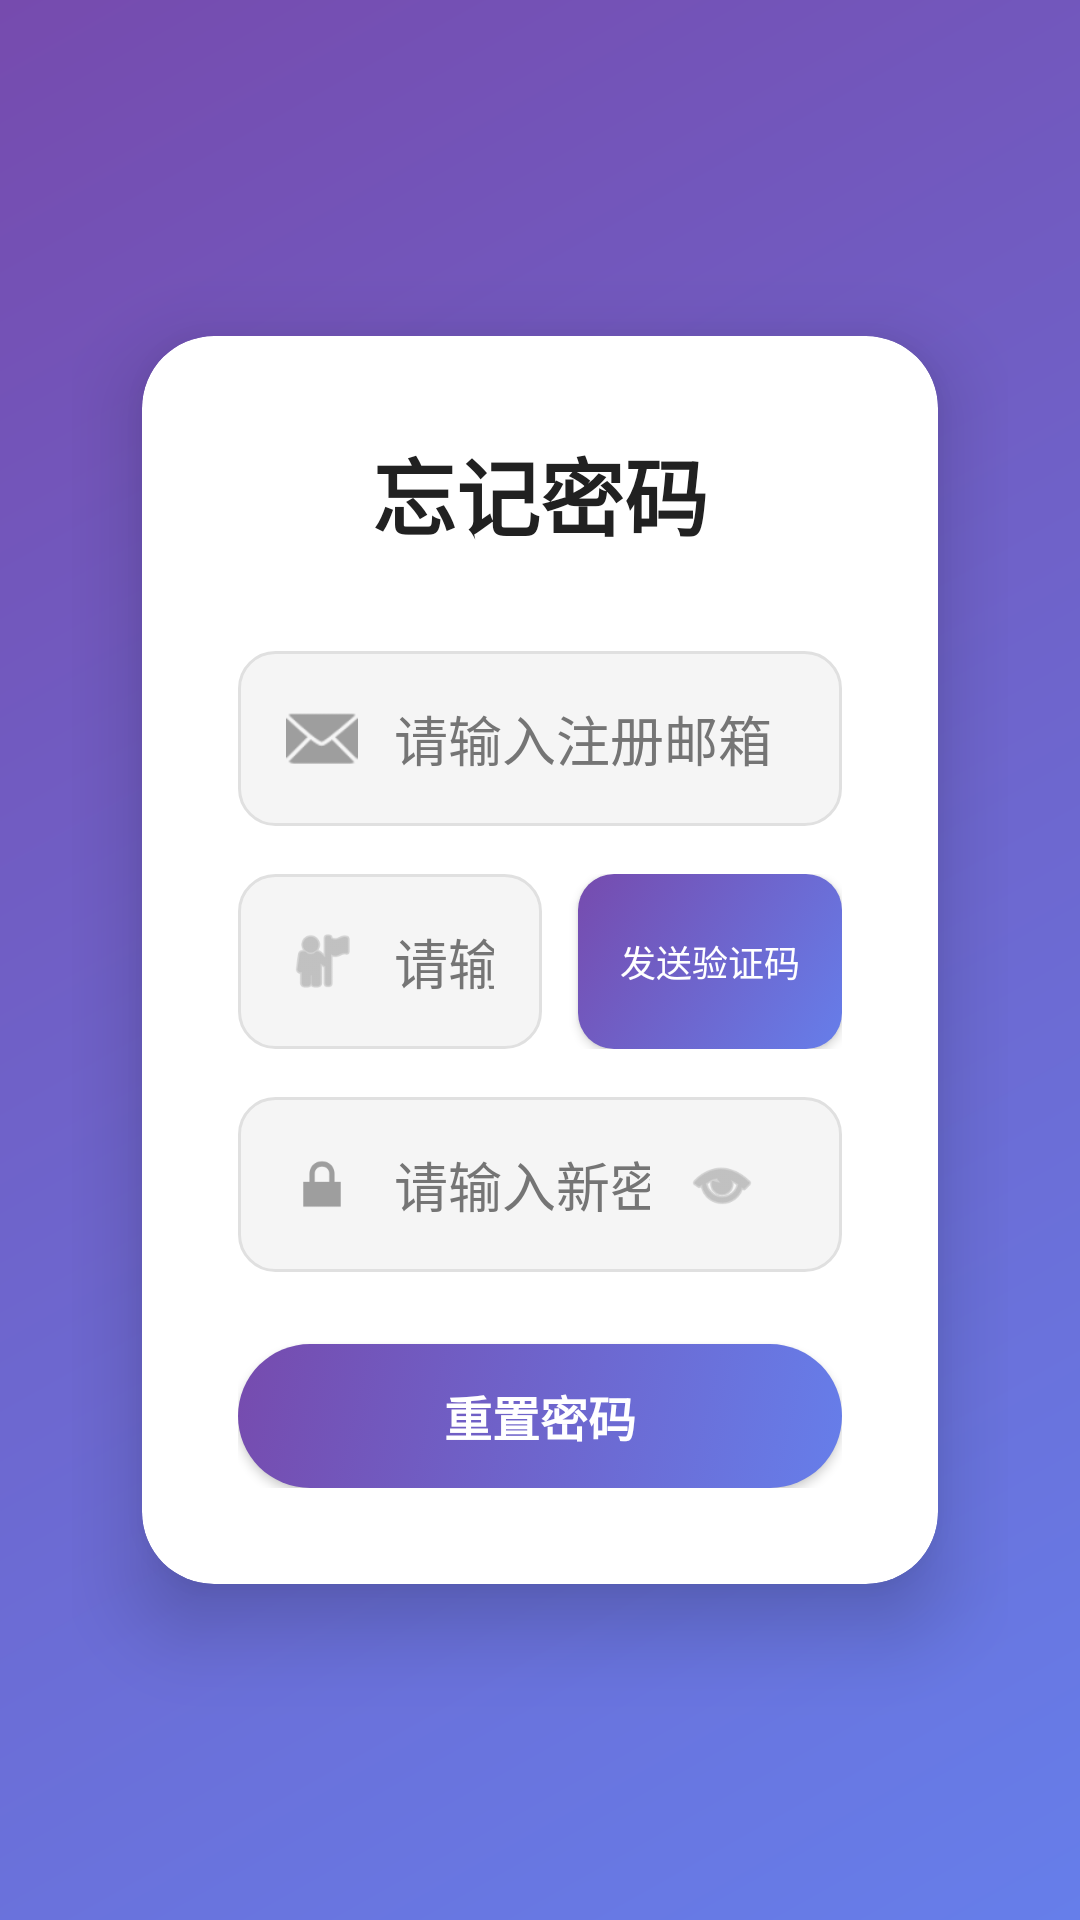

Named icons in this screenshot (1080px×1920px) and their bounding boxes, detection(x1, y1, x2, y2):
email: detection(286, 714, 358, 764)
lock: detection(303, 1161, 341, 1207)
myplaces: detection(296, 935, 349, 987)
显示或隐藏密码: detection(693, 1168, 751, 1204)
